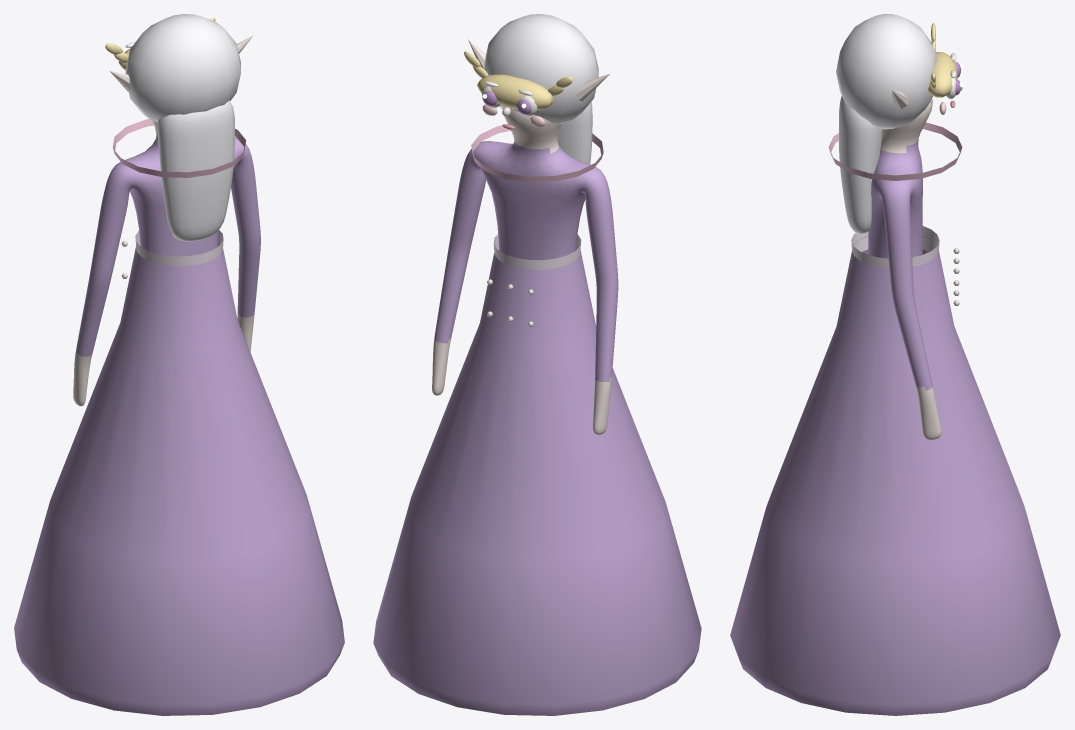
Rendered from seamstress.gltf.
3 views of the same model, side by side, from view 1: azimuth 30°, elevation 25°; view 2: azimuth 150°, elevation 25°; view 3: azimuth 270°, elevation 25° (orthographic).
Visible parts, largest first — view 1: seamstress; view 2: seamstress; view 3: seamstress.
Boxes of the visible parts, x1=… form: seamstress: x1=14, y1=14, x2=344, y2=715; seamstress: x1=373, y1=14, x2=701, y2=715; seamstress: x1=730, y1=14, x2=1060, y2=715.
Size of the model in its own units: 0.868 by 1.82 by 0.868.
